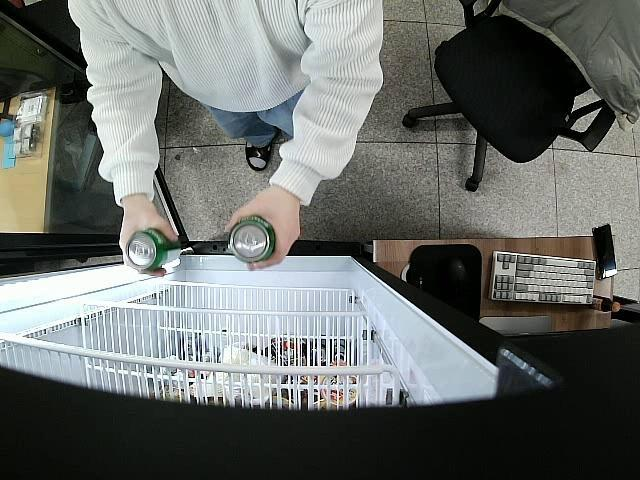12_chilsungCider: (125, 228, 182, 272), (228, 218, 276, 264)
